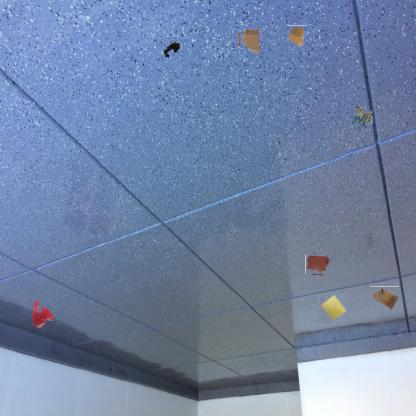dirty: (319, 293, 347, 323), (369, 286, 399, 311), (238, 29, 262, 54), (288, 25, 308, 48), (161, 39, 182, 59), (352, 109, 370, 127)
liquid: (32, 302, 54, 328), (307, 253, 329, 276)
